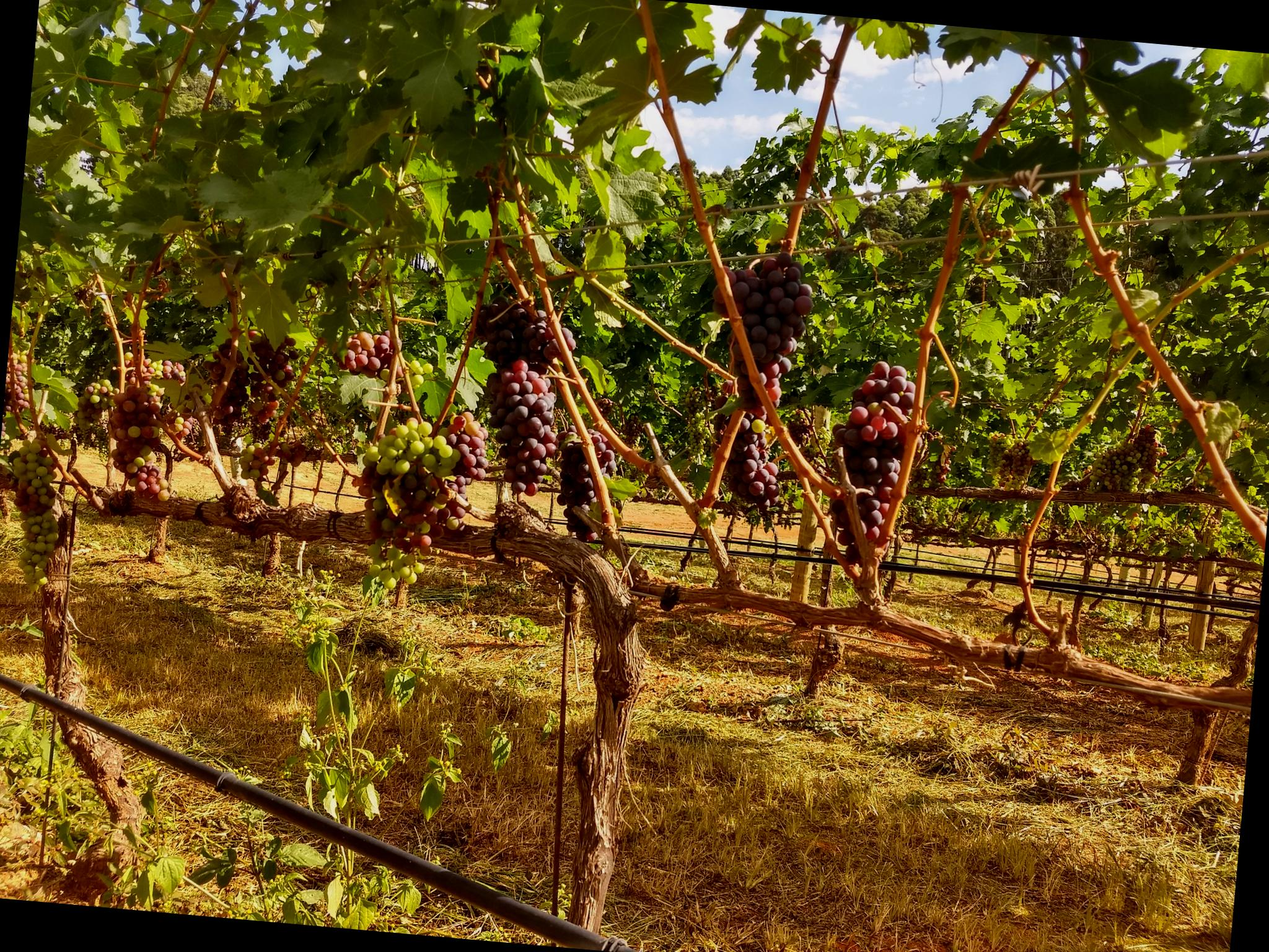Grape Ripe: (702, 258, 817, 420), (476, 357, 569, 498), (473, 294, 580, 374)
Grape Unripe: (355, 414, 446, 593), (0, 436, 66, 593), (552, 422, 621, 544), (239, 439, 277, 479)
